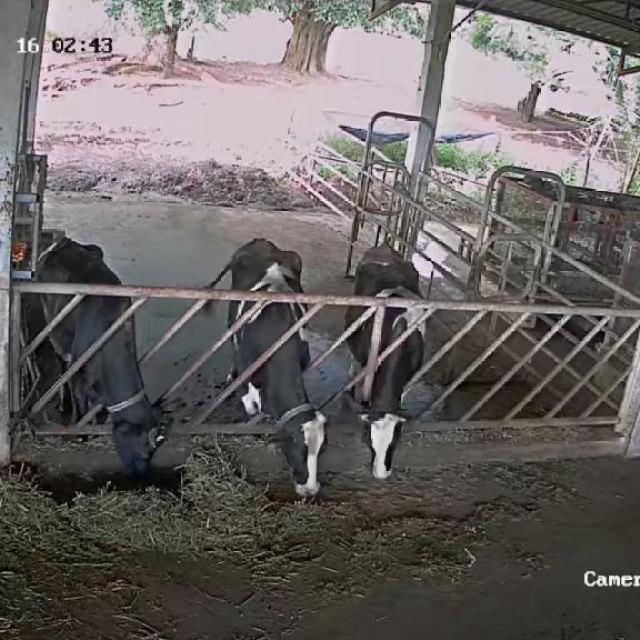feeding: (15, 224, 171, 492), (217, 235, 332, 503), (343, 238, 427, 486)
